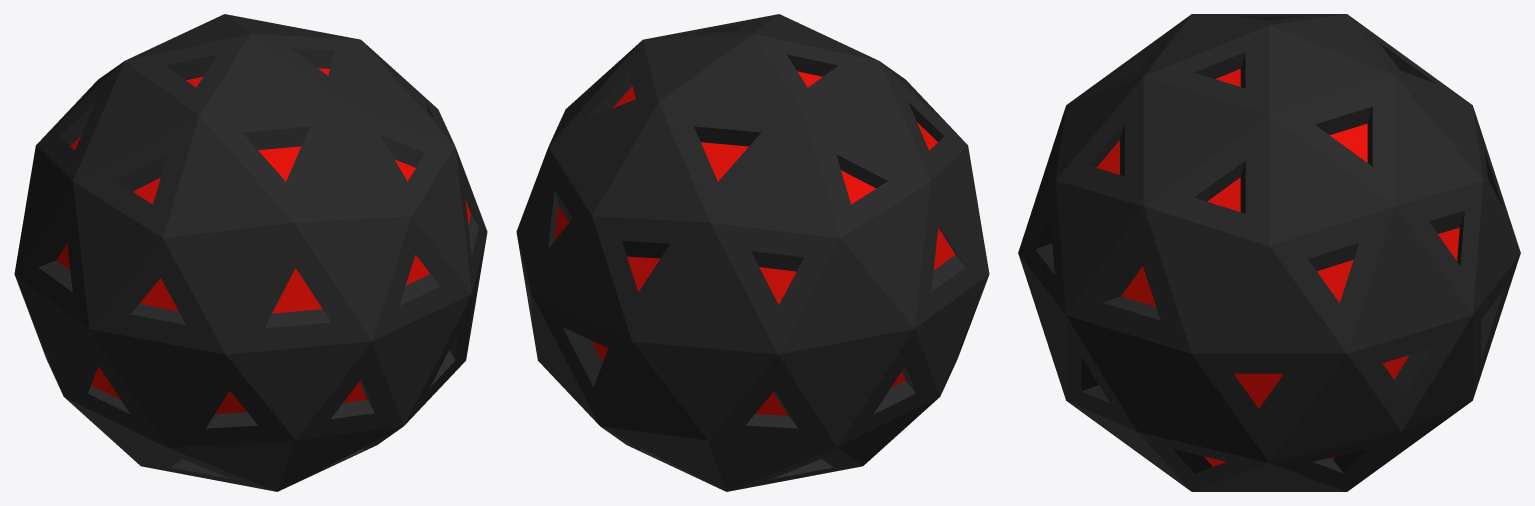
Rendered from mine.fbx.
3 views of the same model, side by side, from view 1: azimuth 30°, elevation 25°; view 2: azimuth 150°, elevation 25°; view 3: azimuth 270°, elevation 25° (orthographic). The views are drawn at different scales.
Parts seen in each view (by area): view 1: Icosphere; view 2: Icosphere; view 3: Icosphere.
Part boxes in pixels (<box>): Icosphere: <box>14,14,487,491</box>; Icosphere: <box>516,14,989,491</box>; Icosphere: <box>1018,14,1520,491</box>.
Bounding box in the file's own units: 951 × 1000 × 1000.
